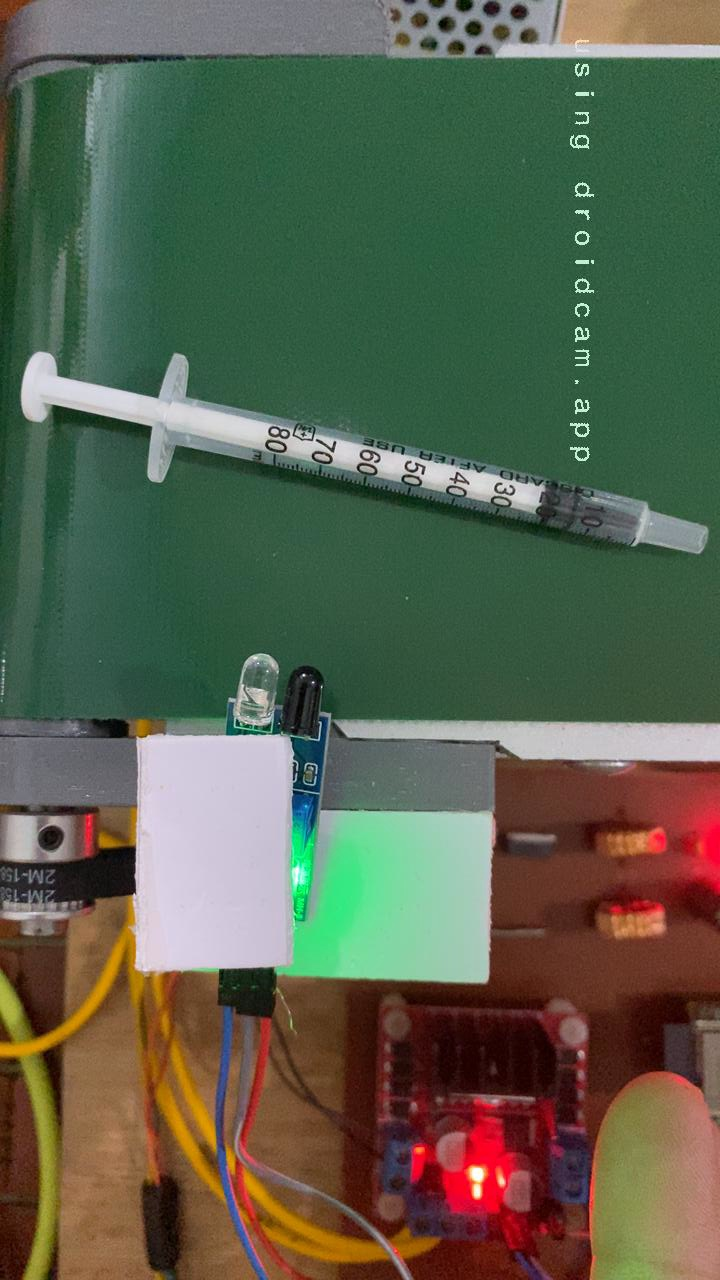syringe: (14, 344, 716, 562)
